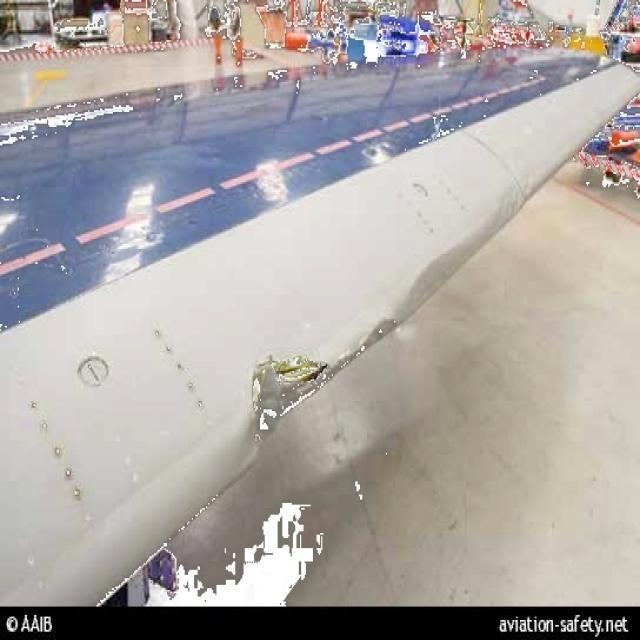crack: (275, 356, 332, 391)
dent: (404, 220, 510, 319), (359, 319, 397, 354)
